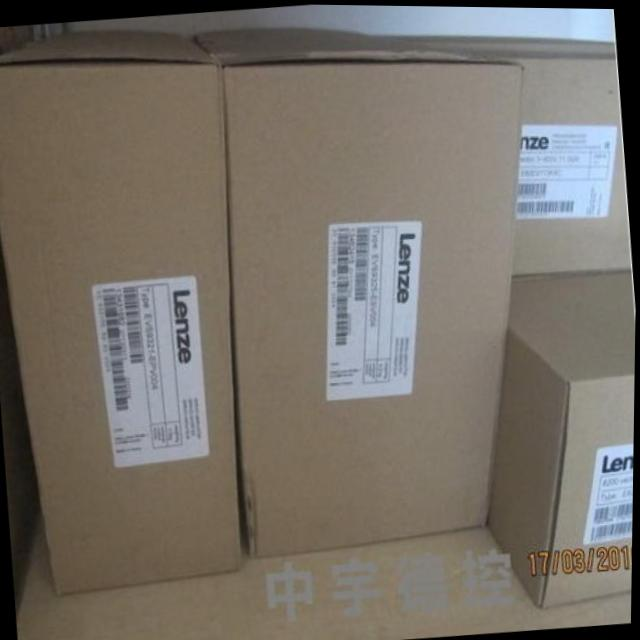box: (193, 26, 523, 558), (0, 32, 244, 594), (373, 32, 631, 273), (489, 267, 636, 606)
